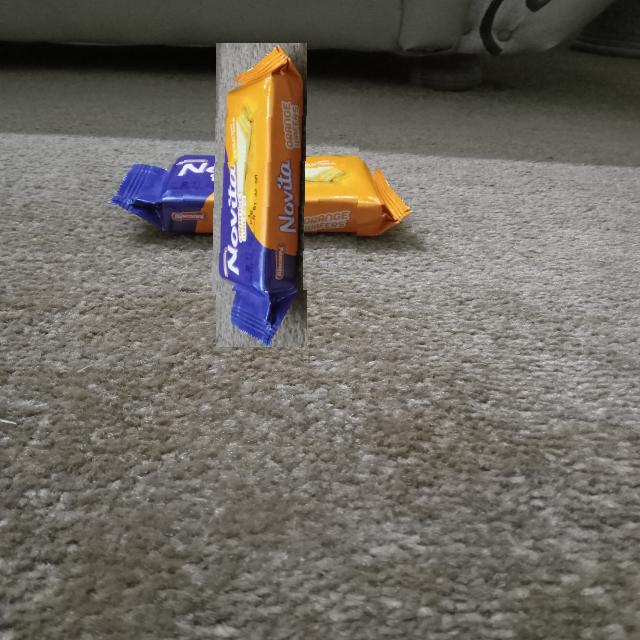Plastic: (162, 96, 360, 293)
